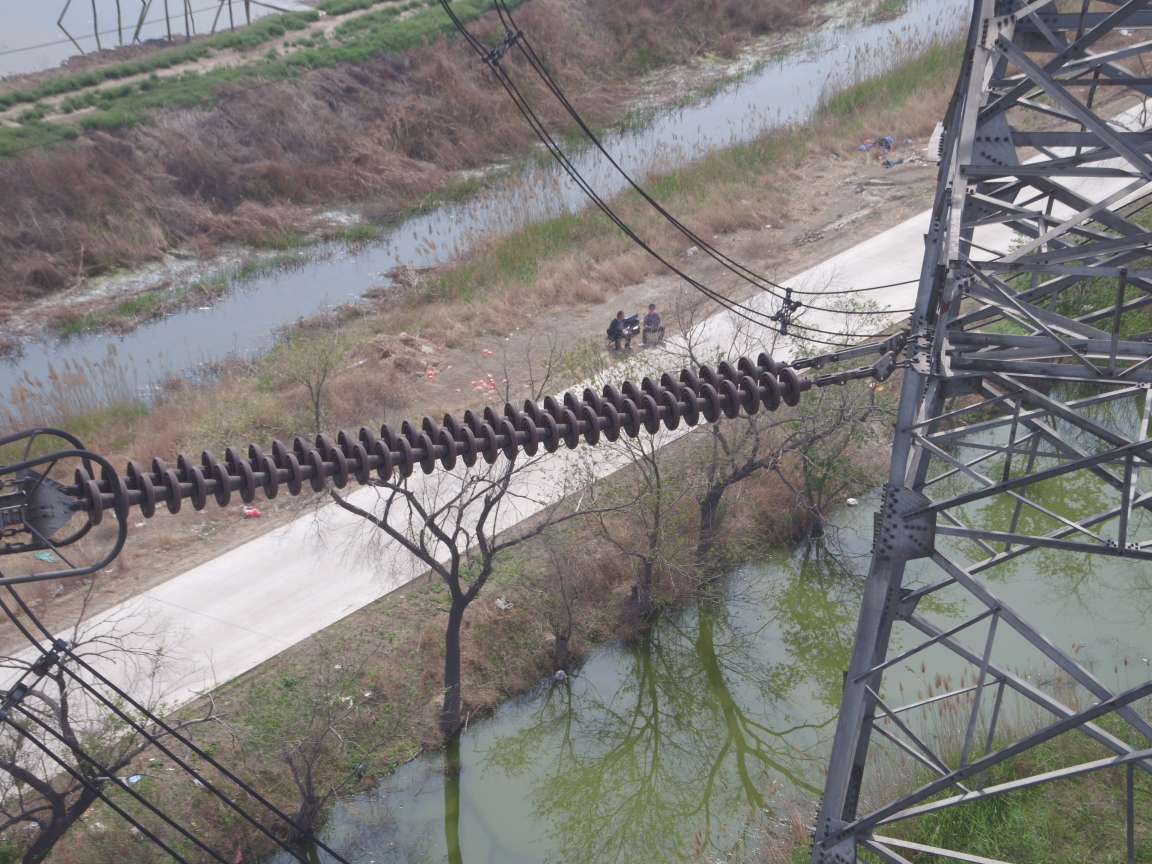insulator: (40, 346, 868, 530)
